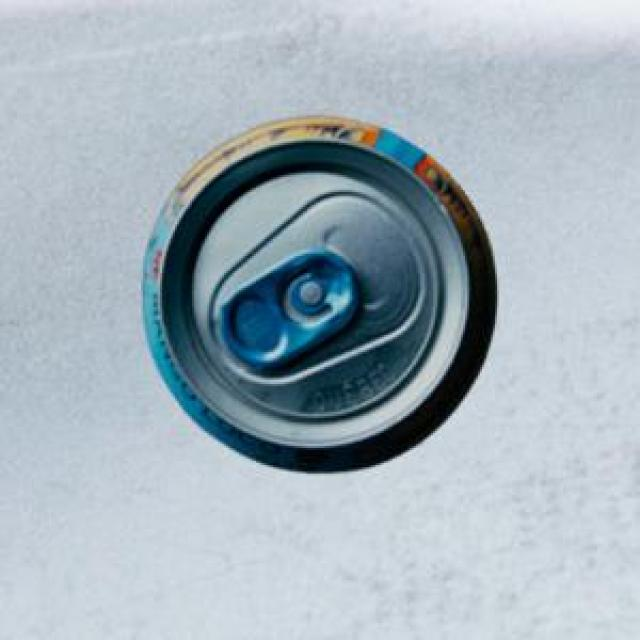logam: (140, 114, 494, 470)
